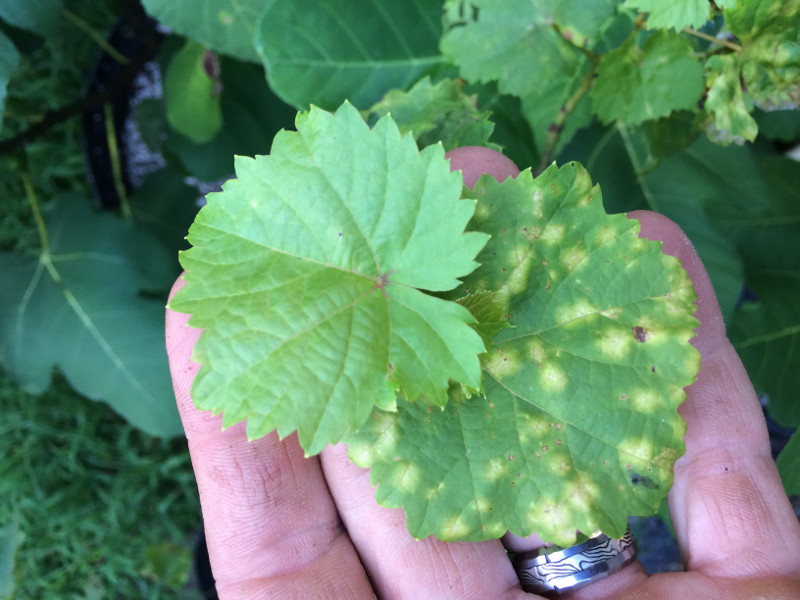downy: (472, 190, 572, 290), (595, 278, 685, 368), (489, 329, 565, 405), (610, 420, 674, 484), (571, 212, 635, 276), (528, 496, 574, 542), (514, 405, 559, 450), (374, 412, 415, 453), (553, 293, 594, 334), (569, 471, 605, 507), (388, 462, 423, 497), (628, 382, 662, 416), (437, 509, 470, 542), (542, 452, 574, 484), (485, 461, 511, 487), (351, 440, 377, 466), (470, 495, 495, 520), (481, 518, 500, 537)
